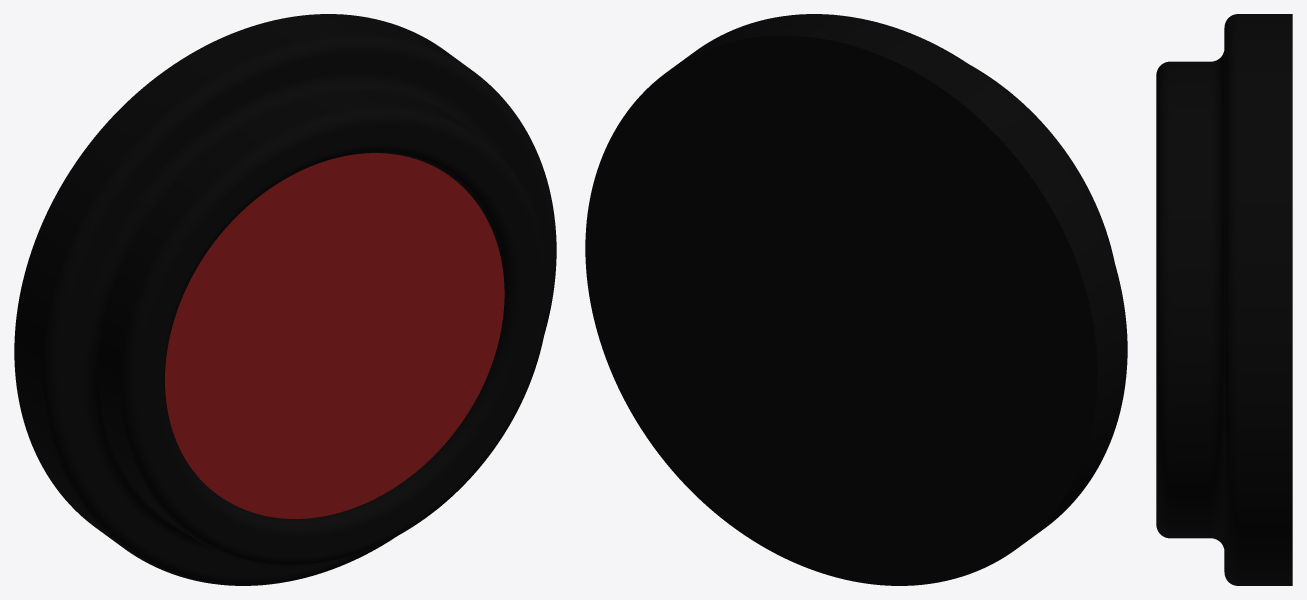
Rendered from inkpad.obj.
3 renders of one model, left to right at view 1: azimuth 30°, elevation 25°; view 2: azimuth 150°, elevation 25°; view 3: azimuth 270°, elevation 25°, orthographic. The views are drawn at different scales.
Visible parts, largest first — view 1: ソリッド1; view 2: ソリッド1; view 3: ソリッド1.
Boxes of the visible parts, bbox=[...] form: ソリッド1: bbox=[14, 14, 556, 585]; ソリッド1: bbox=[585, 14, 1127, 585]; ソリッド1: bbox=[1156, 14, 1292, 585].
Bounding box in the file's own units: 0.042 × 0.042 × 0.01.
